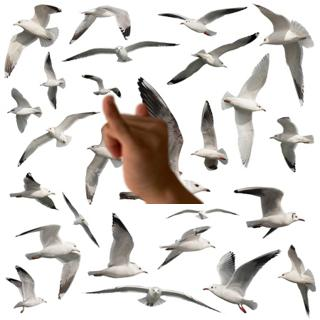HAVE: (91, 87, 190, 198)
